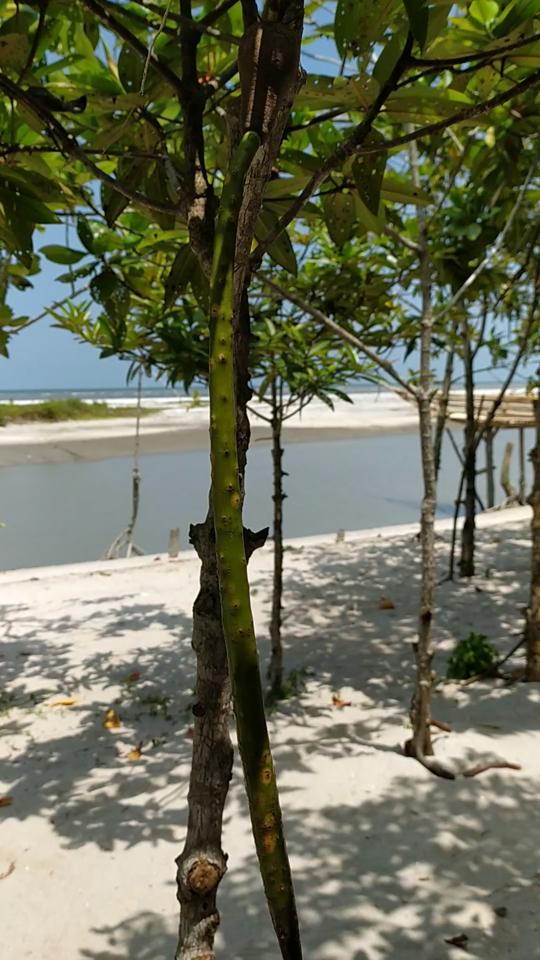setengah matang: (198, 70, 322, 958)
